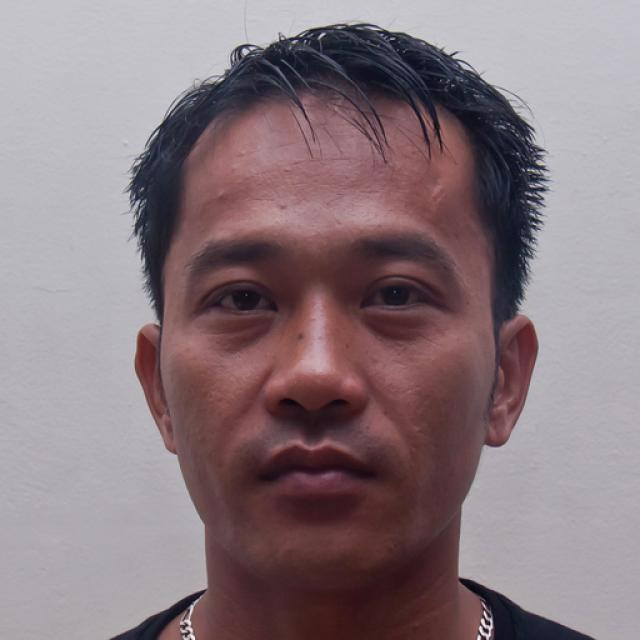neutral: (162, 79, 493, 585)
